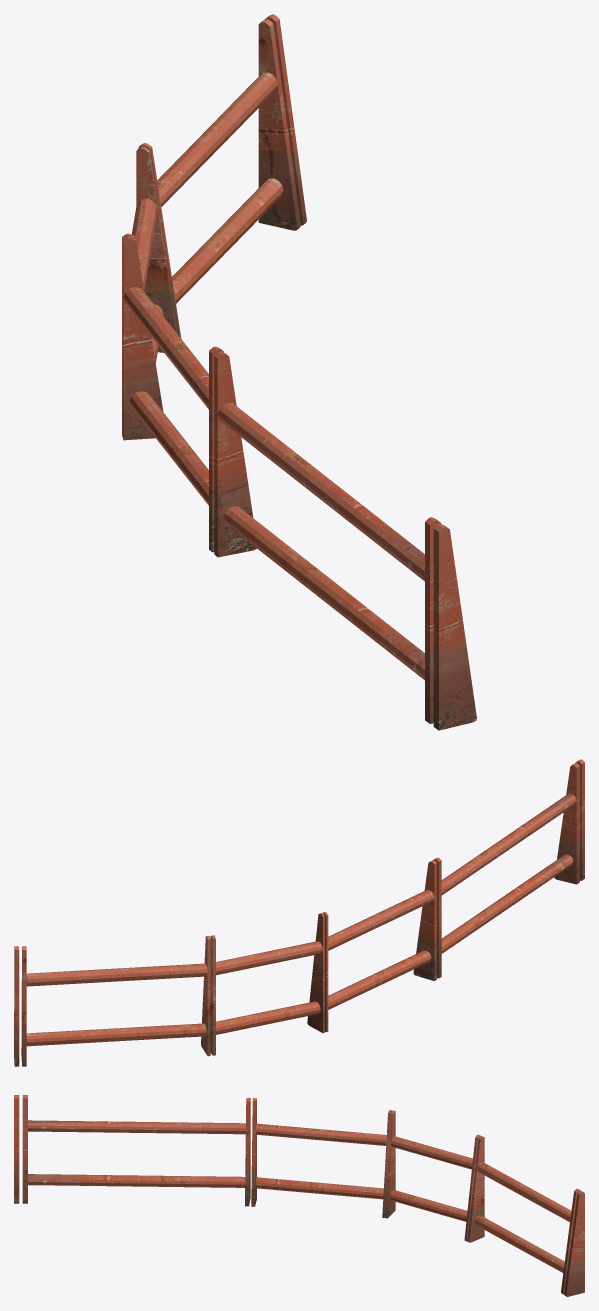
File: bridge1_railing1_curve1_1.fbx
The picture shows the model from 3 angles, top to bottom: view 1: azimuth 30°, elevation 25°; view 2: azimuth 150°, elevation 25°; view 3: azimuth 270°, elevation 25°; orthographic projection. The views are drawn at different scales.
Visible parts, largest first — view 1: railing.009; view 2: railing.009; view 3: railing.009.
Part boxes in pixels (x1,y1,x2,y2): railing.009: (122,14,476,730); railing.009: (14,759,584,1066); railing.009: (14,1095,584,1296).
Size of the model in its own units: 2.18 by 1 by 5.13.
